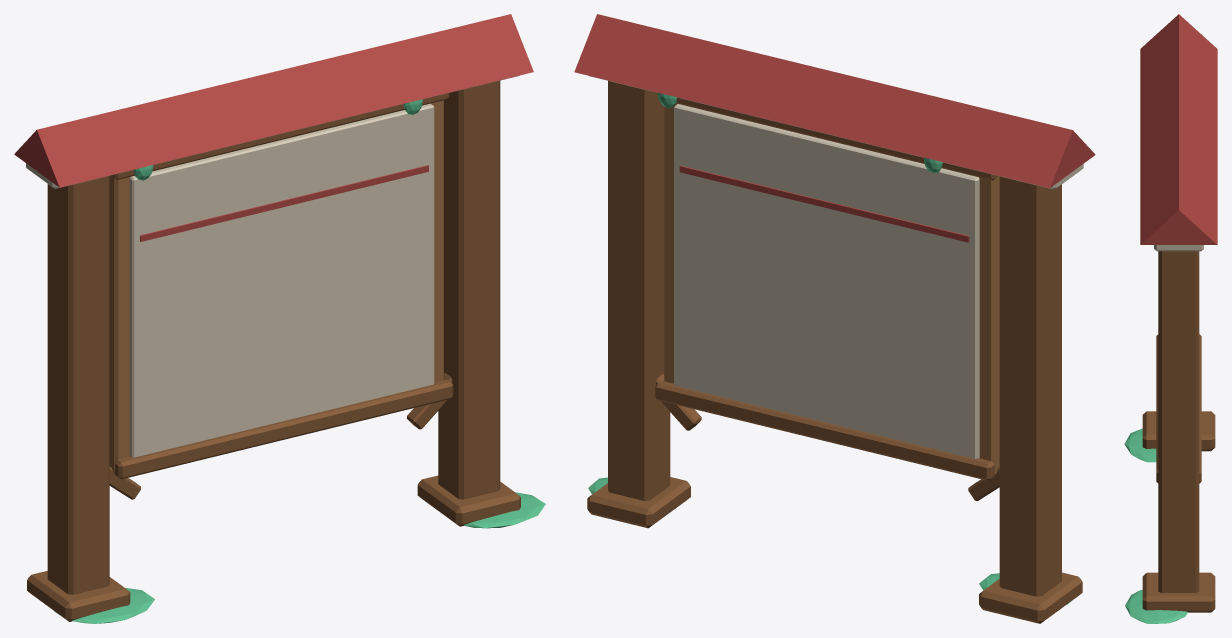
Rendered from phoenix_top_earners_board.fbx.
3 views of the same model, side by side, from view 1: azimuth 30°, elevation 25°; view 2: azimuth 150°, elevation 25°; view 3: azimuth 270°, elevation 25° (orthographic). The views are drawn at different scales.
Parts seen in each view (by area): view 1: phoenix_top_earners_board; view 2: phoenix_top_earners_board; view 3: phoenix_top_earners_board.
Part boxes in pixels (x1,y1,x2,y2): phoenix_top_earners_board: (14,14,545,623); phoenix_top_earners_board: (574,14,1095,623); phoenix_top_earners_board: (1124,14,1217,623).
Bounding box in the file's own units: 21.1 × 19.93 × 4.1.
